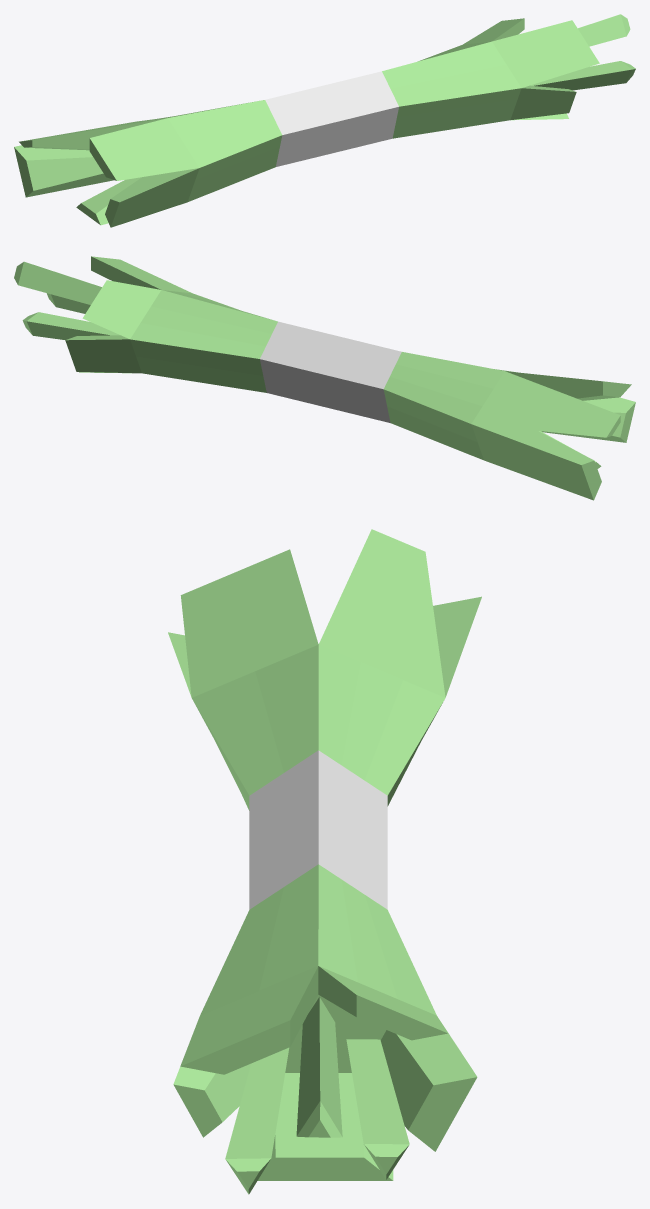
File: Wheat.fbx
3 renders of one model, top to bottom at view 1: azimuth 30°, elevation 25°; view 2: azimuth 150°, elevation 25°; view 3: azimuth 270°, elevation 25°, orthographic. The views are drawn at different scales.
Visible parts, largest first — view 1: Wheat; view 2: Wheat; view 3: Wheat.
Boxes of the visible parts, box(x1,y1,x2,y2) form: Wheat: box(14, 14, 635, 227); Wheat: box(14, 256, 635, 500); Wheat: box(168, 529, 481, 1194).
Size of the model in its own units: 0.1873 by 0.8012 by 0.1148.
